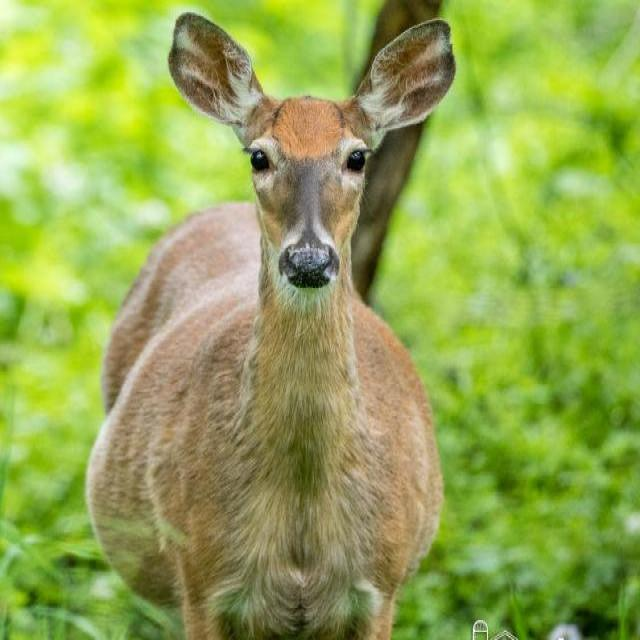deer: (95, 11, 458, 632)
